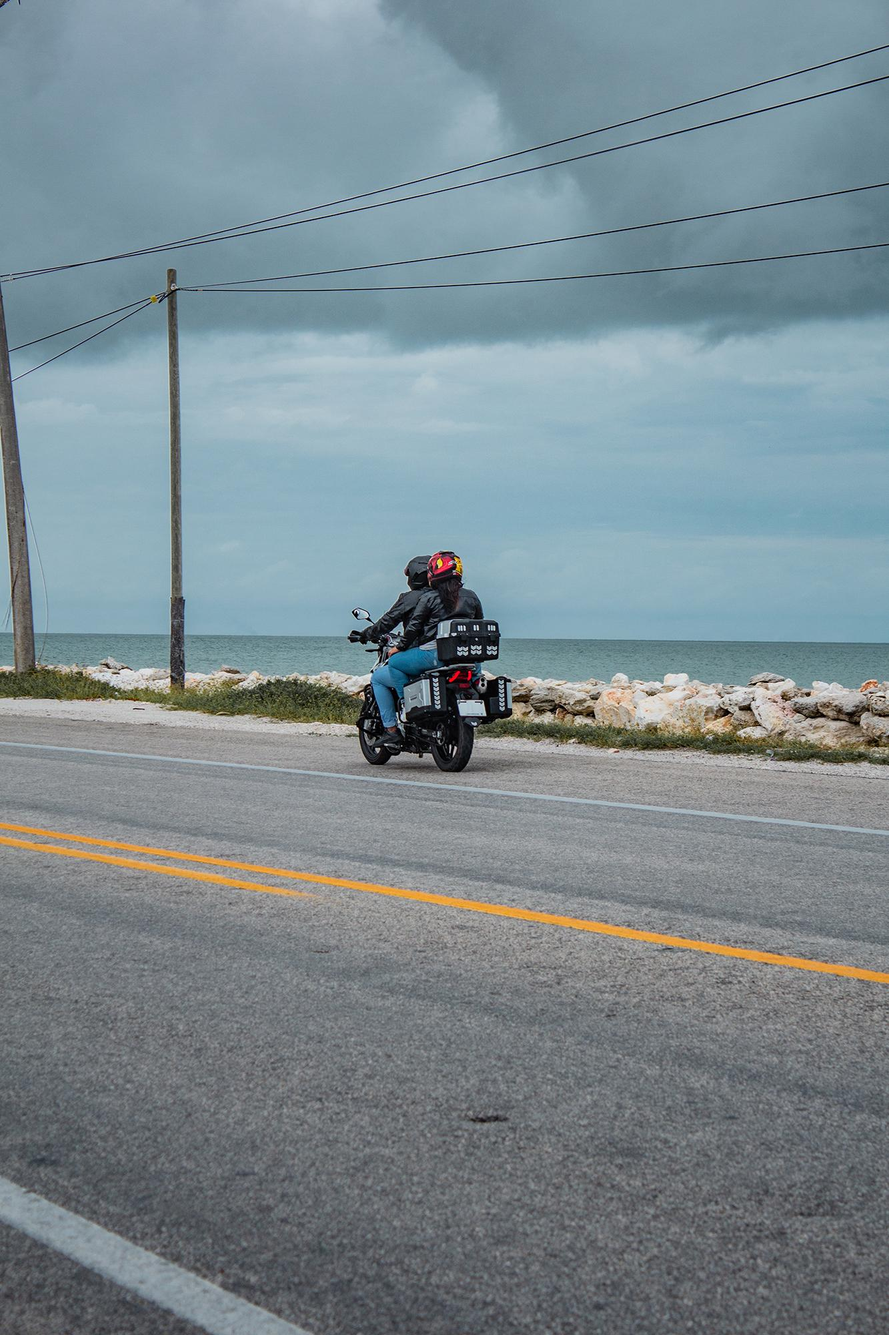helmet: (404, 554, 443, 593), (426, 550, 463, 591)
